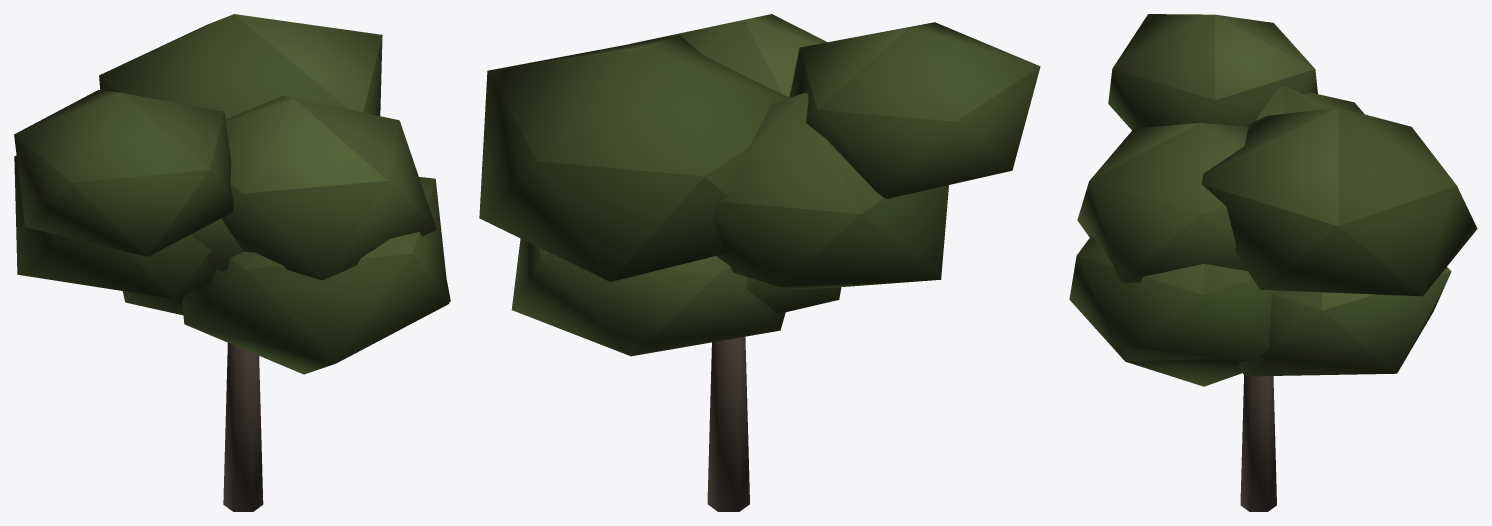
Rendered from env_holm_oak.glb.
3 renders of one model, left to right at view 1: azimuth 30°, elevation 25°; view 2: azimuth 150°, elevation 25°; view 3: azimuth 270°, elevation 25°, orthographic. The views are drawn at different scales.
Visible parts, largest first — view 1: env_holm_oak; view 2: env_holm_oak; view 3: env_holm_oak.
Part boxes in pixels (x1,y1,x2,y2): env_holm_oak: (14,14,450,511); env_holm_oak: (479,14,1040,511); env_holm_oak: (1069,14,1477,511).
Bounding box in the file's own units: 9.34 × 9.76 × 8.48.
